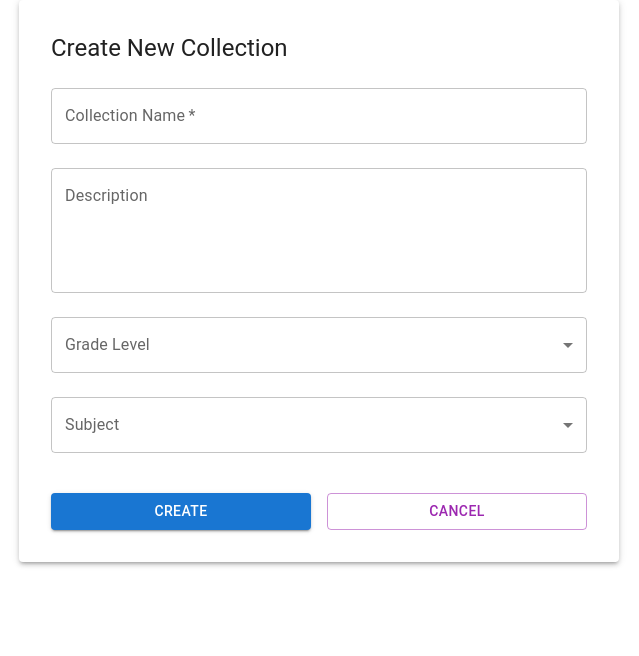
it: CollectionForm › handles API errors
Fill required field
Type "Test Collection" into the field labelled "Collection Name *" at (319, 116), box [51,88,587,144]
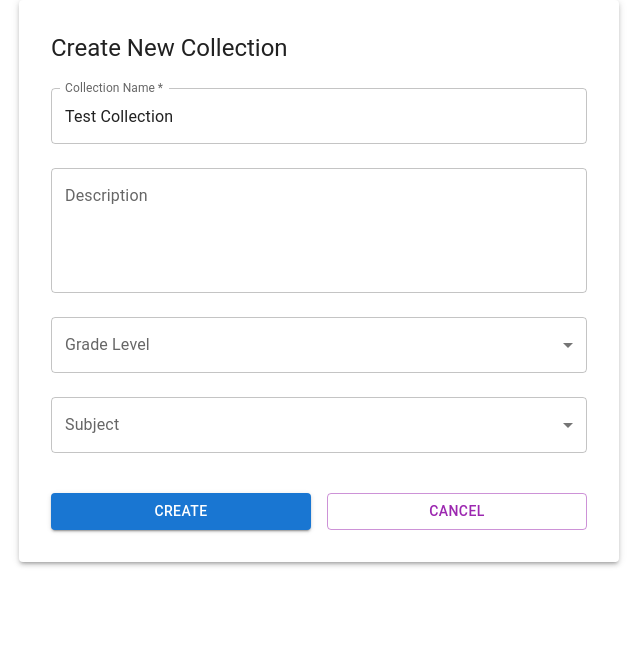
Submit form
Click the button "Create" at (181, 511), box [51,493,311,530]
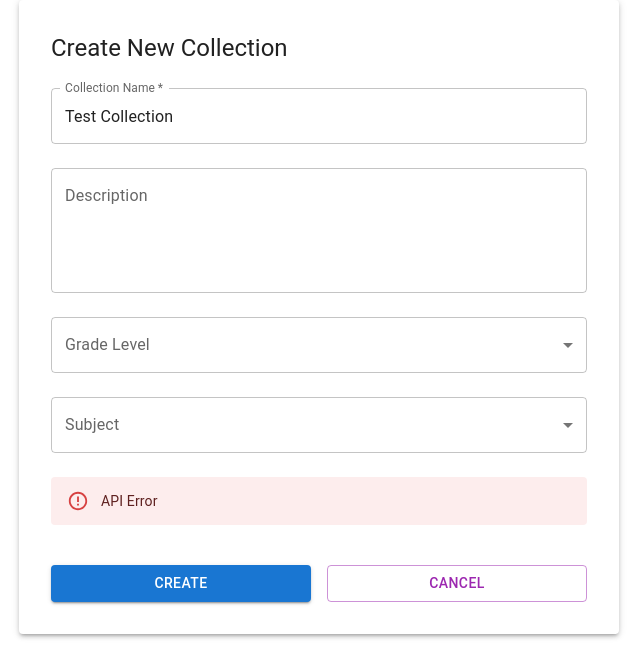
Now the text "API Error" is shown, box [101,493,158,509]
